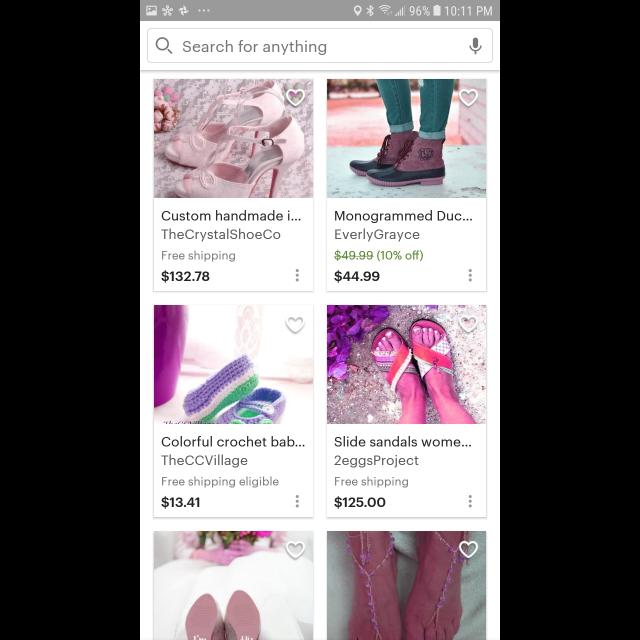icon: (286, 89, 306, 107), (286, 540, 306, 558), (459, 89, 478, 107), (459, 541, 478, 559), (286, 316, 306, 332), (460, 316, 478, 332), (156, 37, 172, 54), (470, 38, 482, 56), (468, 494, 472, 508), (295, 270, 299, 282), (468, 270, 472, 282), (295, 496, 299, 508)
image: (154, 78, 314, 198), (154, 304, 314, 424), (326, 304, 486, 424), (328, 80, 487, 198), (154, 531, 314, 640), (327, 531, 486, 640)
input: (147, 28, 493, 64)
text: (184, 40, 326, 56), (334, 210, 472, 224), (162, 436, 304, 448), (162, 210, 302, 222), (162, 228, 280, 242), (162, 475, 278, 489), (334, 436, 472, 446), (160, 454, 248, 468), (336, 229, 420, 243), (334, 250, 424, 262), (334, 456, 418, 468), (162, 250, 236, 262), (335, 476, 409, 488), (334, 496, 386, 509), (162, 270, 210, 284), (334, 270, 380, 284), (162, 495, 200, 509)
uppertaskbar: (140, 1, 500, 22)
